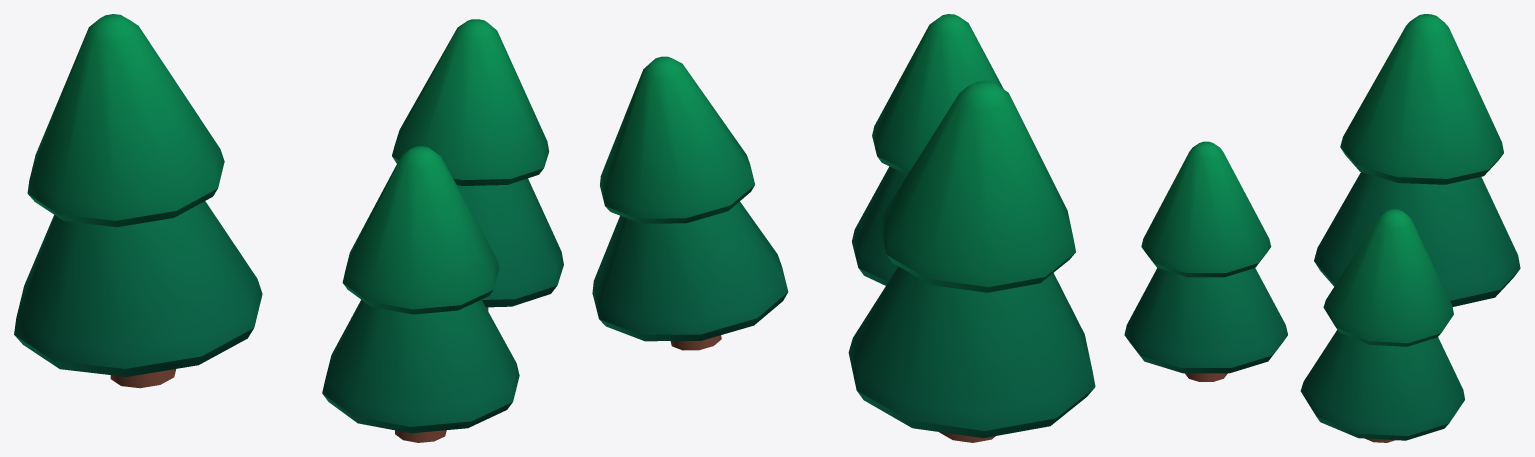
Rendered from kk_pines.glb.
3 renders of one model, left to right at view 1: azimuth 30°, elevation 25°; view 2: azimuth 150°, elevation 25°; view 3: azimuth 270°, elevation 25°, orthographic. The views are drawn at different scales.
Visible parts, largest first — view 1: trees_B_small; view 2: trees_B_small; view 3: trees_B_small.
Boxes of the visible parts, left/top/right/bottom form: trees_B_small: left=14, top=14, right=563, bottom=442; trees_B_small: left=592, top=14, right=1095, bottom=442; trees_B_small: left=1124, top=14, right=1520, bottom=442.
Size of the model in its own units: 1.33 by 0.9219 by 1.14.
